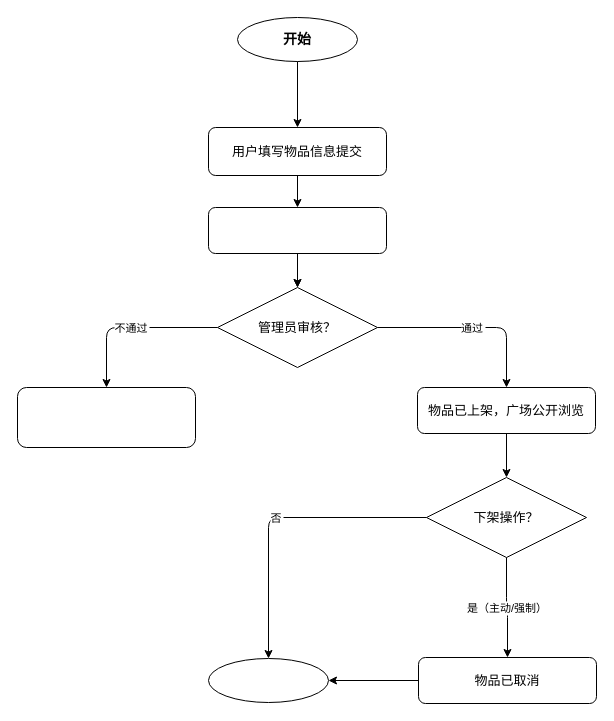
The diagram is 614 pixels wide and 721 high, and some of its shapes have lost their labels. Each missing label, with the box of its shape:
物品已驳回，用户可修改后重新提交: (16, 386, 196, 448)
物品进入待审核状态: (208, 206, 386, 254)
结束: (208, 658, 328, 702)
